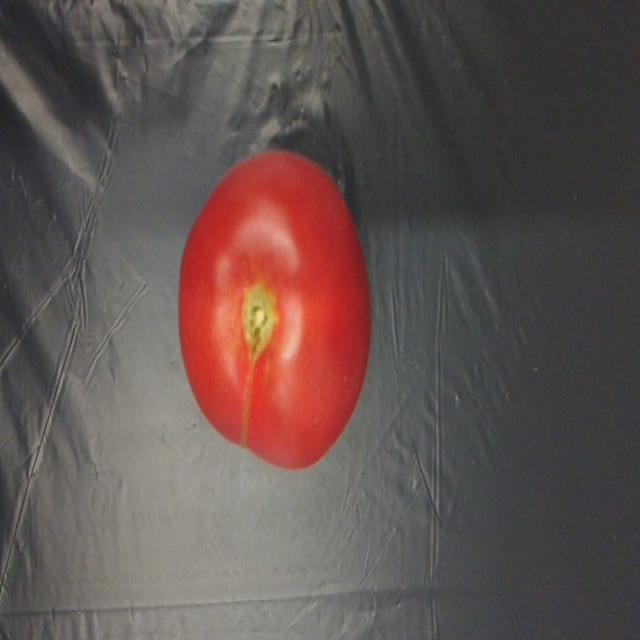kirmizi: (175, 132, 368, 474)
